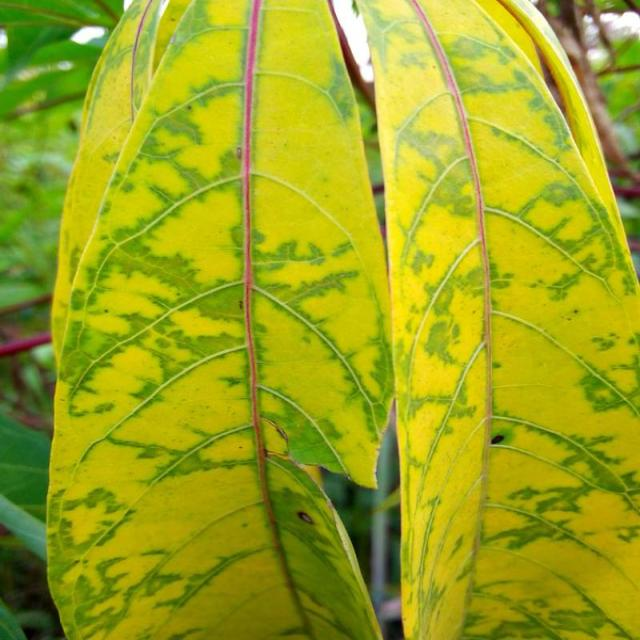cassava leaf: (45, 0, 396, 638), (355, 0, 640, 638)
